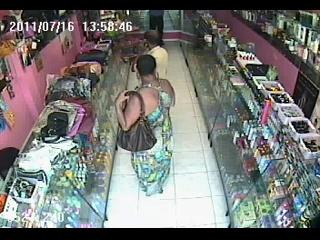Normal: (118, 55, 176, 197), (117, 90, 157, 152), (144, 30, 168, 78), (75, 50, 109, 65)
